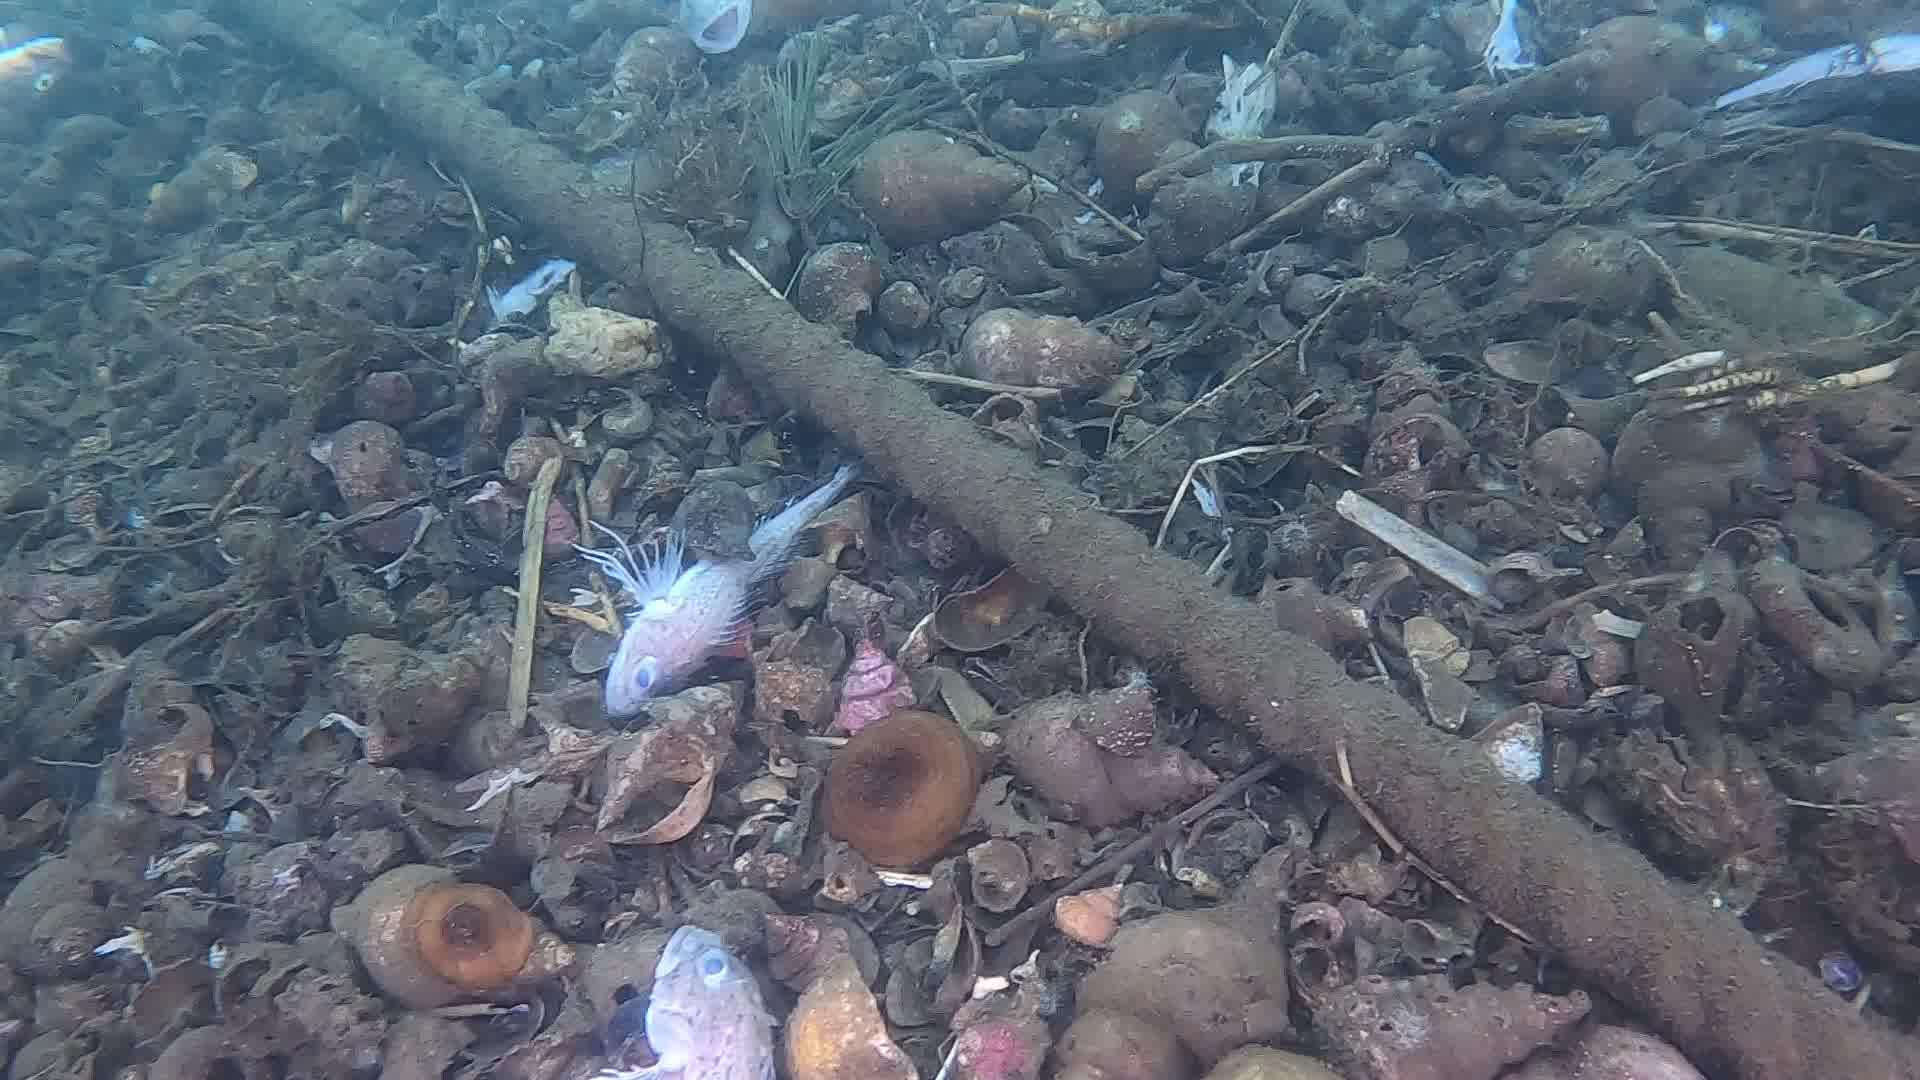rope: (232, 0, 1920, 1080)
